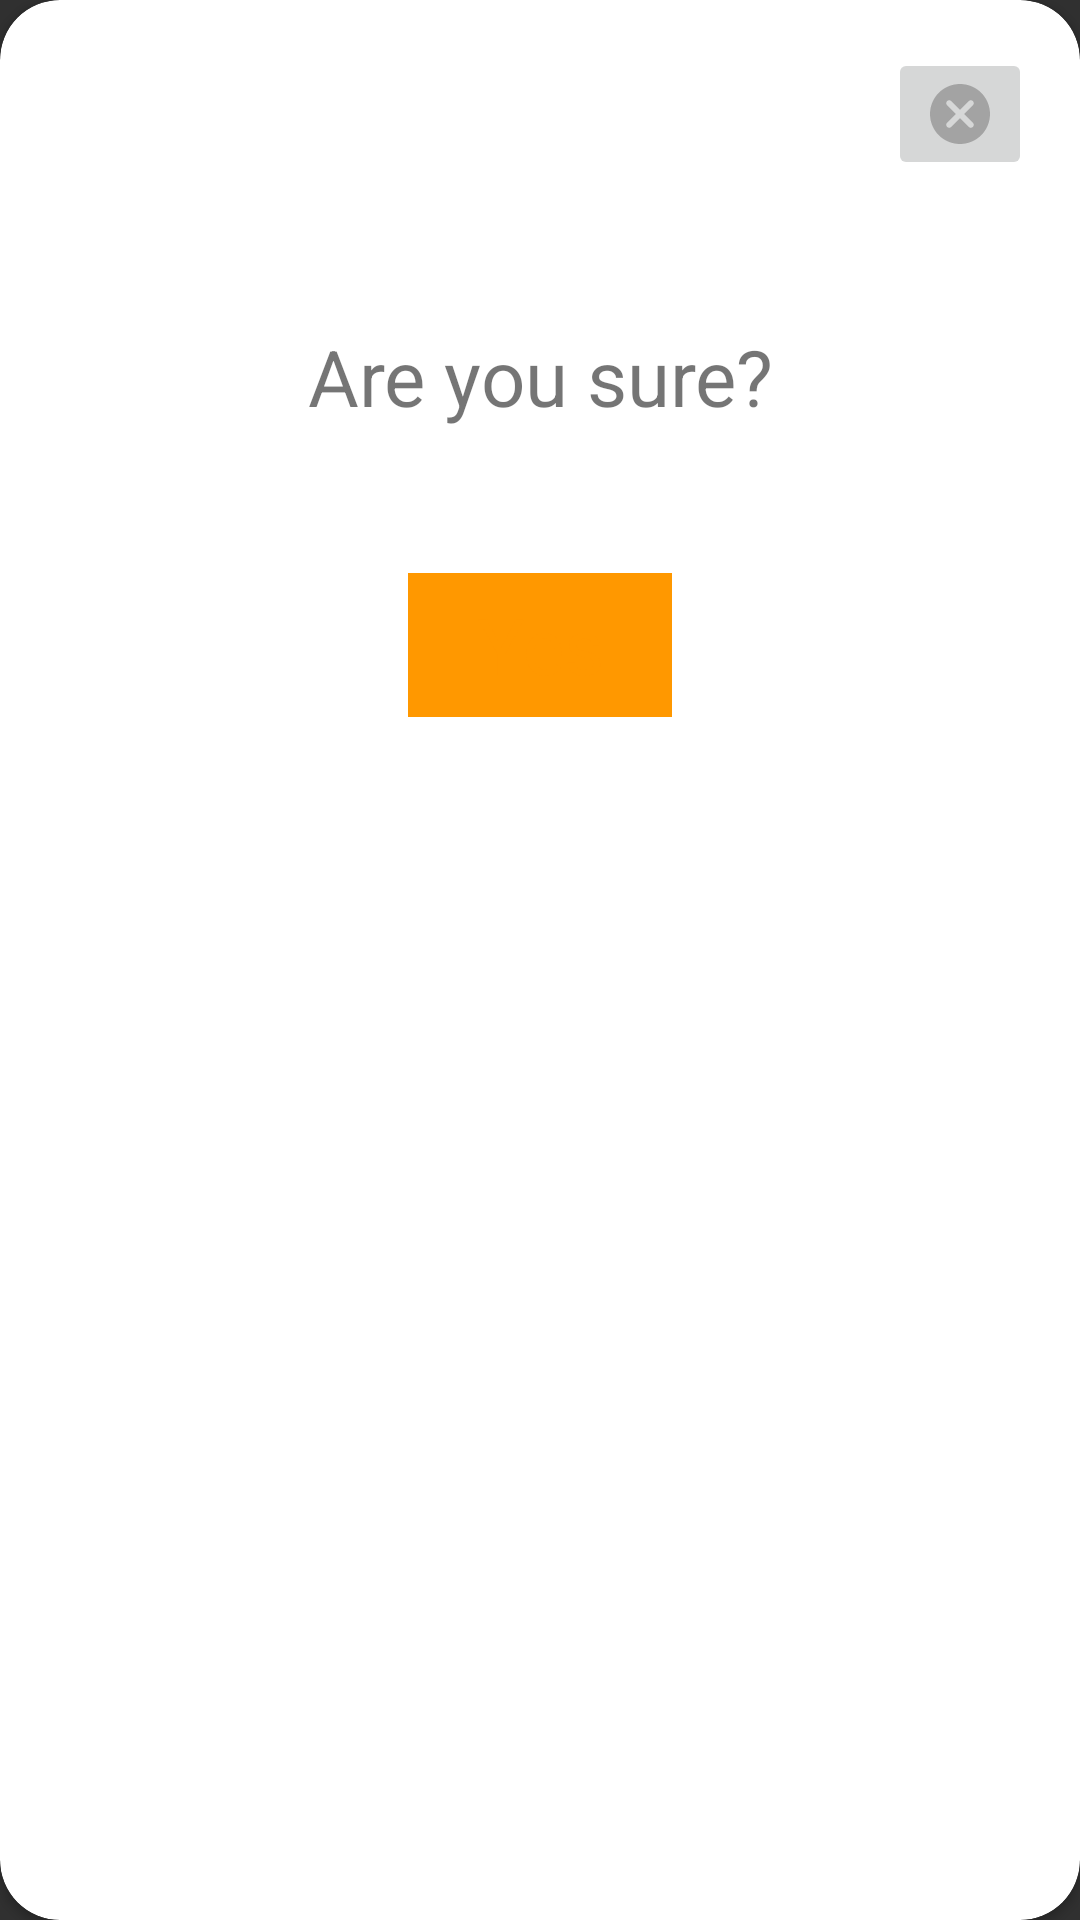

Icons on this 1080 × 1920 Android screen, each with its box as Rect(x1, y1, x2, y2):
cancel: Rect(900, 66, 1020, 162)
